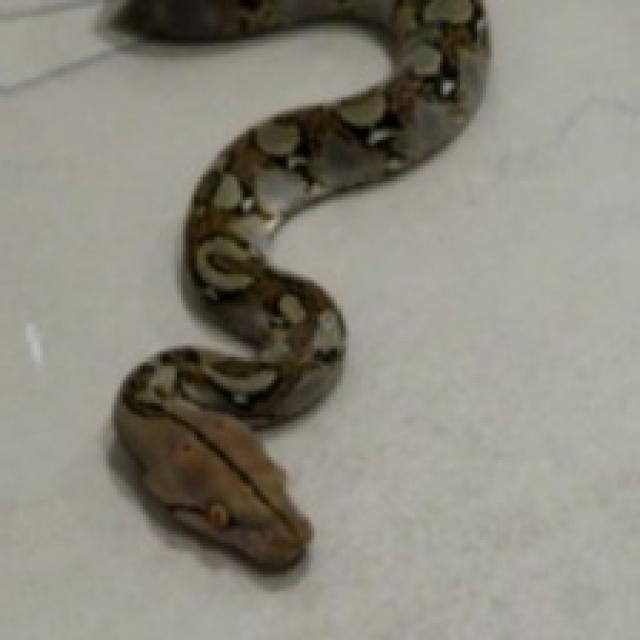reticulated python: (114, 0, 486, 566)
